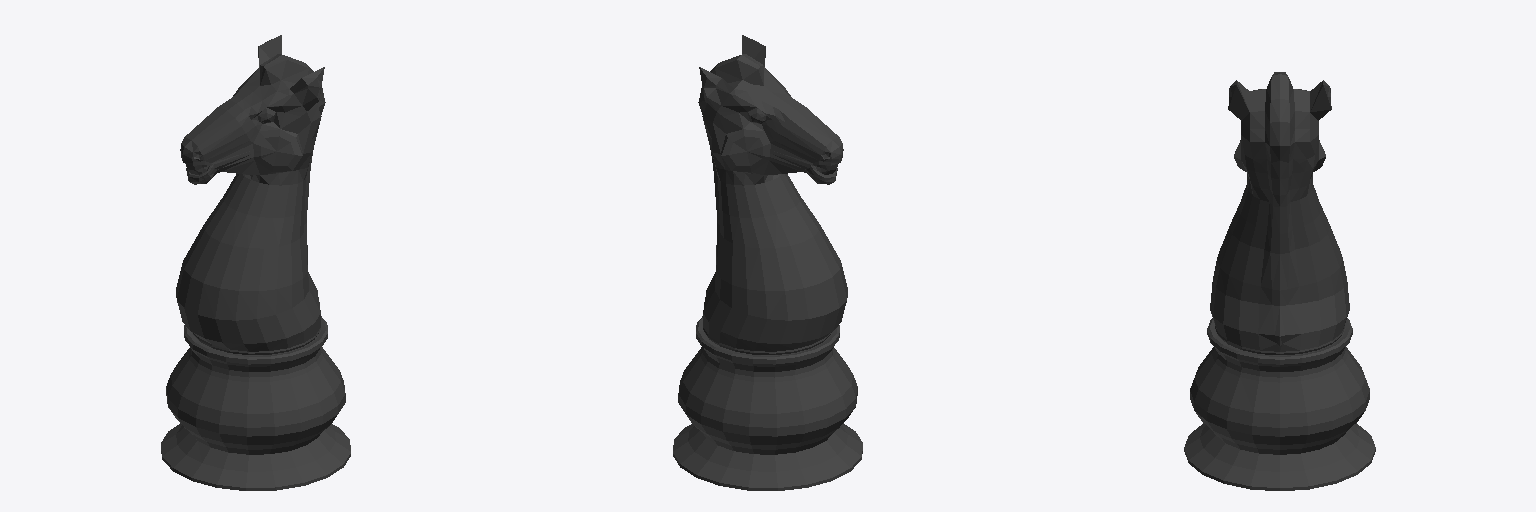
The picture shows the model from 3 angles: view 1: azimuth 30°, elevation 25°; view 2: azimuth 150°, elevation 25°; view 3: azimuth 270°, elevation 25°; orthographic projection.
Visible parts, largest first — view 1: White_knight1_White_knight1Shape; view 2: White_knight1_White_knight1Shape; view 3: White_knight1_White_knight1Shape.
Boxes of the visible parts, box(x1,y1,x2,y2) form: White_knight1_White_knight1Shape: box(161, 35, 350, 490); White_knight1_White_knight1Shape: box(673, 35, 862, 490); White_knight1_White_knight1Shape: box(1184, 72, 1375, 490).
Size of the model in its own units: 1 by 2.25 by 1.
1 materials, 1 textured.